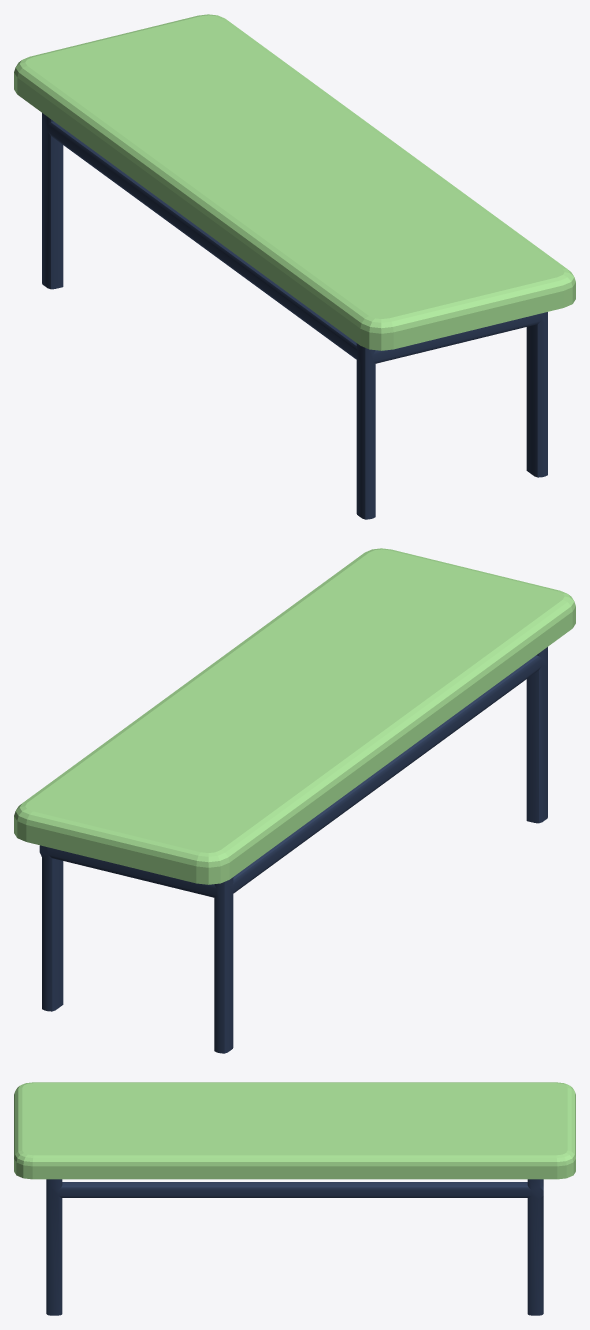
Rendered from bench.fbx.
3 views of the same model, one above another, from view 1: azimuth 30°, elevation 25°; view 2: azimuth 150°, elevation 25°; view 3: azimuth 270°, elevation 25° (orthographic). The views are drawn at different scales.
Parts seen in each view (by area): view 1: Cube.001; view 2: Cube.001; view 3: Cube.001.
Part boxes in pixels (box(x1,y1,x2,y2)): Cube.001: box(14, 14, 575, 519); Cube.001: box(14, 548, 575, 1053); Cube.001: box(14, 1082, 575, 1315).
Bounding box in the file's own units: 400 × 381 × 1198.
